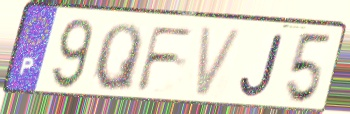5: (281, 33, 336, 106)
9: (48, 17, 96, 92)
F: (134, 25, 197, 95)
J: (237, 33, 287, 100)
Q: (91, 21, 145, 95)
V: (192, 25, 246, 100)
